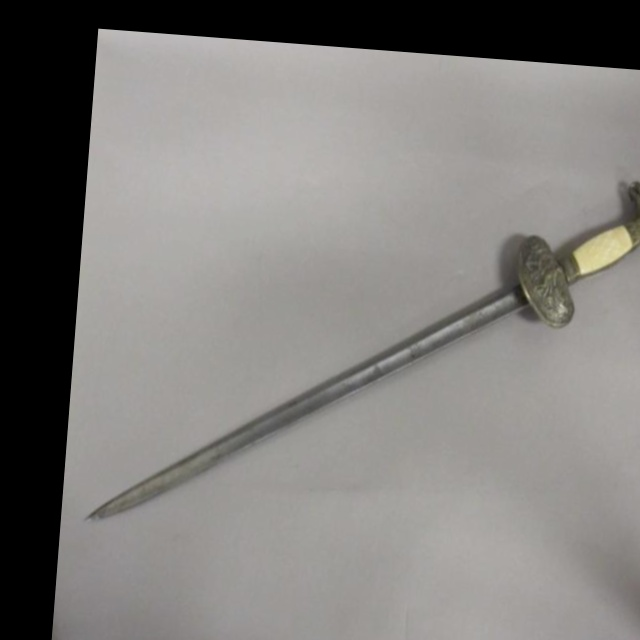Sharp-Object: (76, 138, 640, 618)
